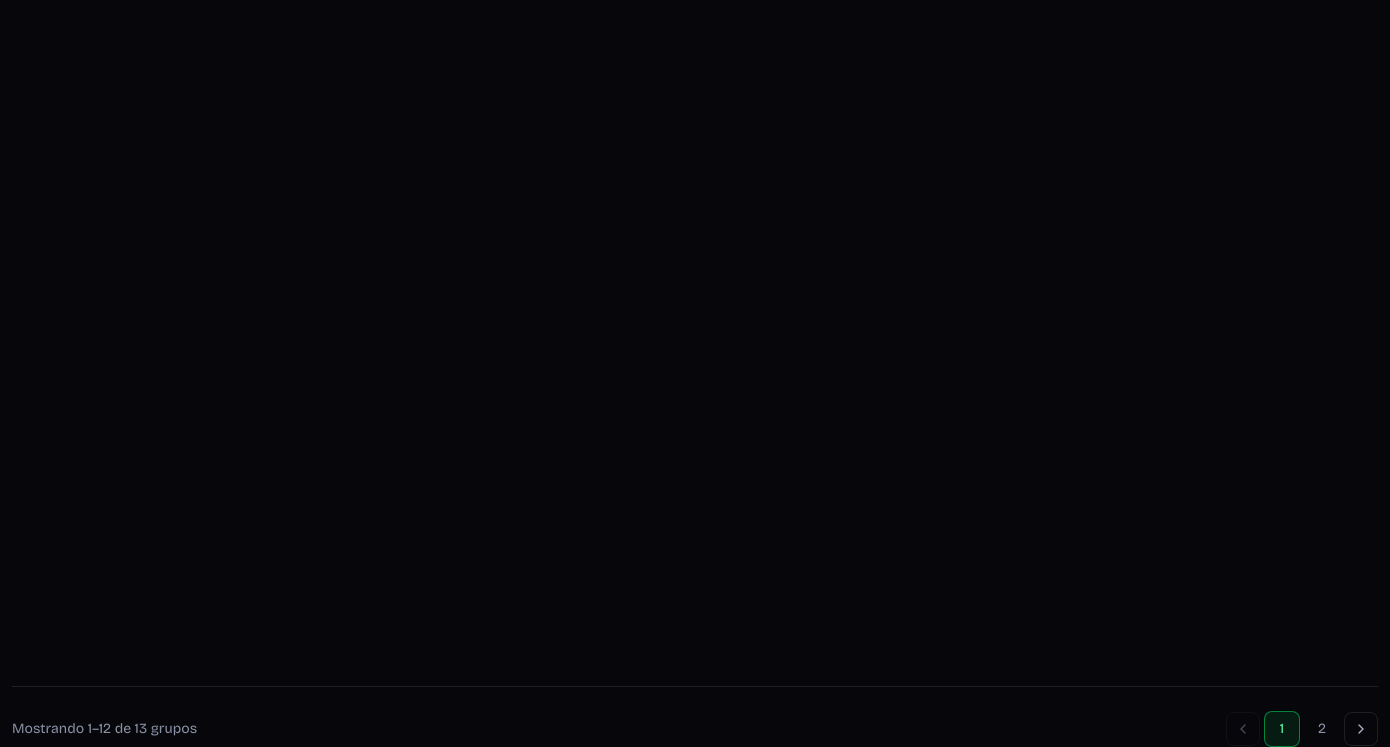
Test: HerramientasHub › pagina los resultados de a 12
(page scrolled)
Expected: the text "Proyecto 12" is not shown
Click the button "2".
click(1322, 728)  # box x1=1304 y1=710 x2=1340 y2=746
(page scrolled)
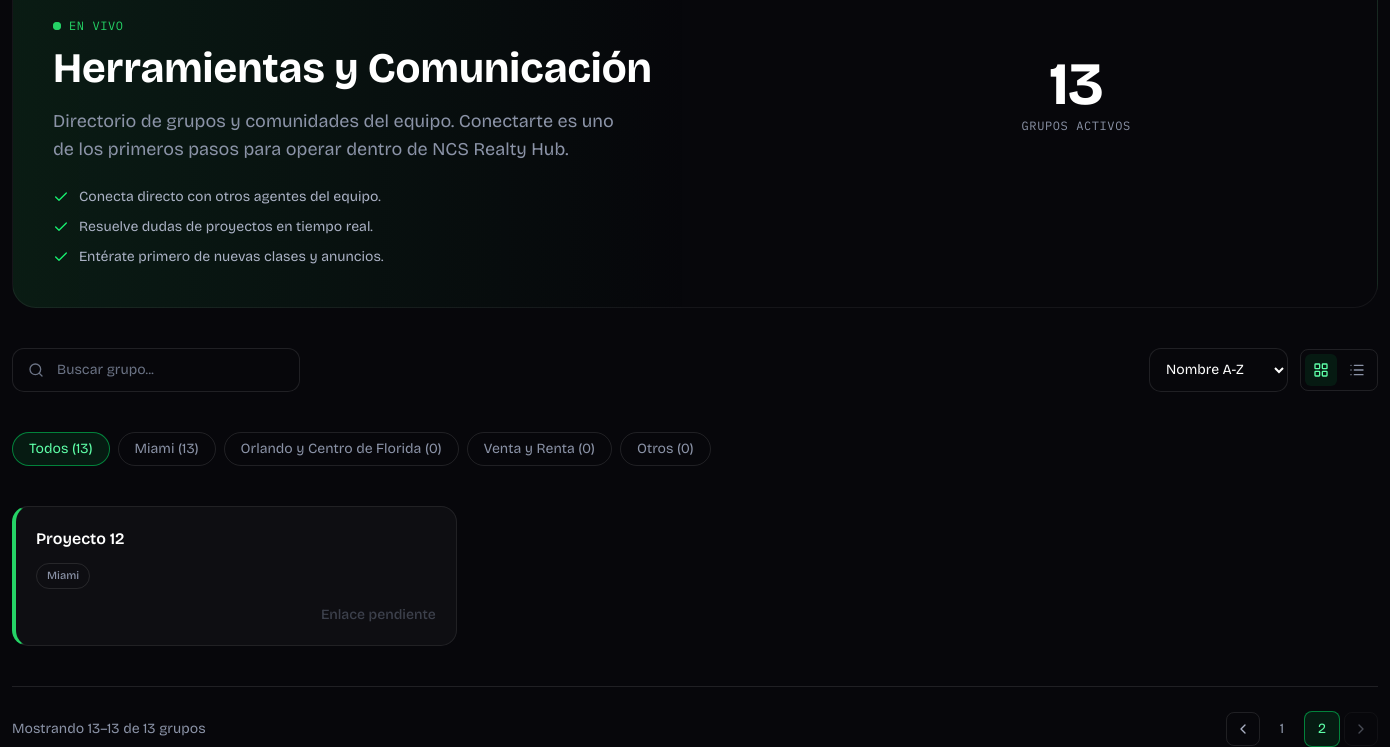
Result: the heading "Proyecto 12" is shown at x1=36 y1=528 x2=124 y2=548
